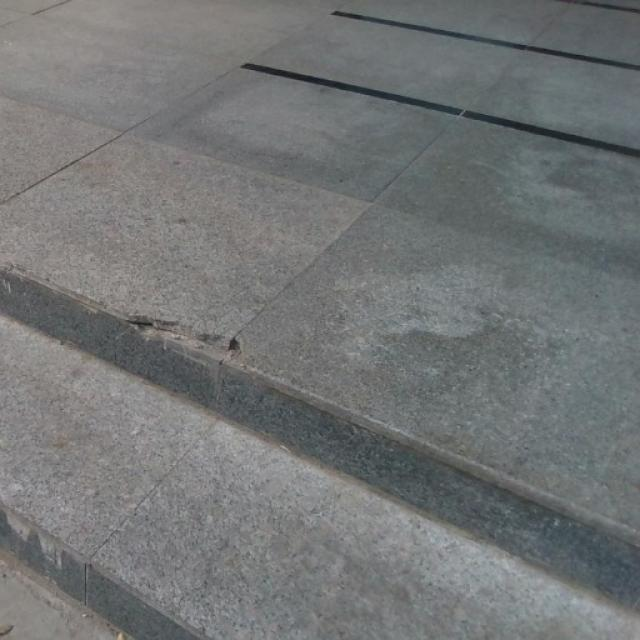Stairs: (0, 257, 639, 638)
